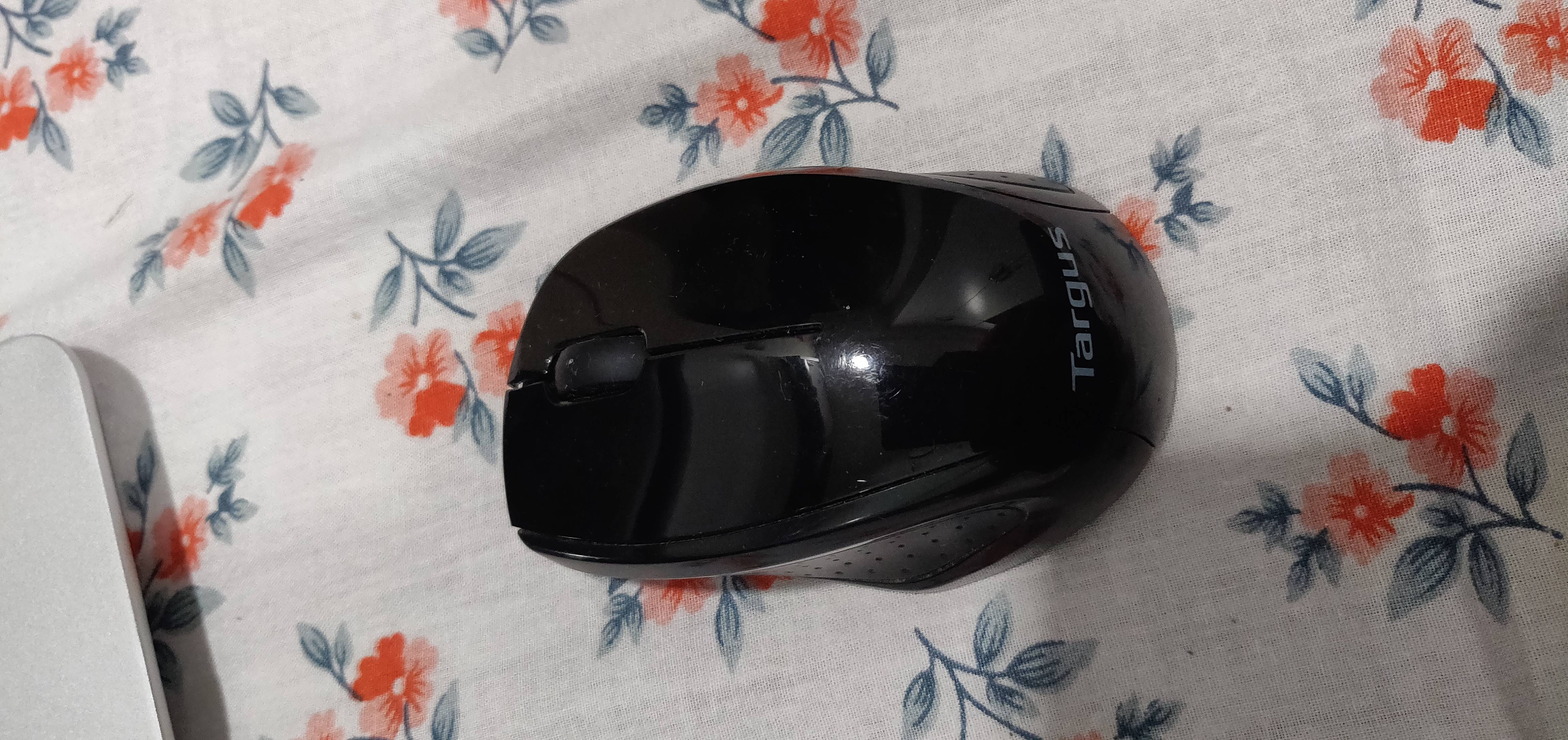Electronics: (490, 152, 1198, 625)
